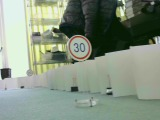speed_30: (66, 34, 92, 61)
